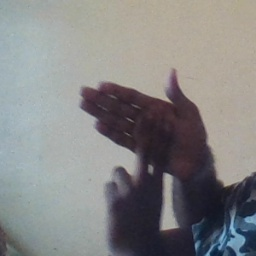N: (73, 61, 209, 221)
